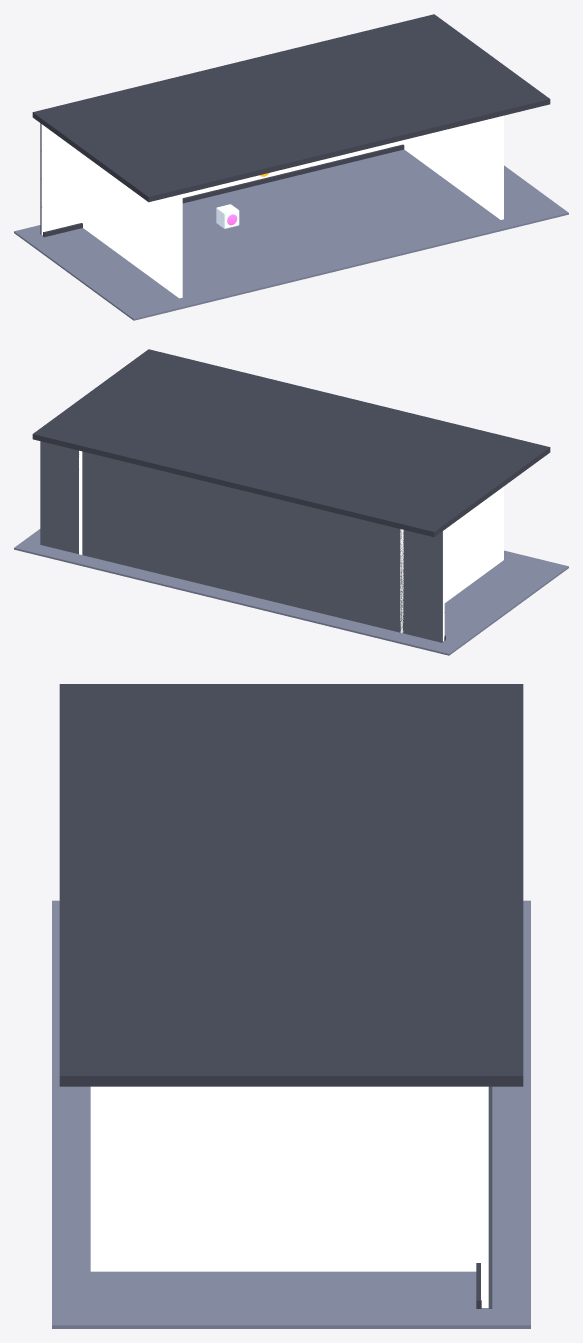
File: testkammer.glb
3 views of the same model, one above another, from view 1: azimuth 30°, elevation 25°; view 2: azimuth 150°, elevation 25°; view 3: azimuth 270°, elevation 25° (orthographic). The views are drawn at different scales.
Parts seen in each view (by area): view 1: Decke.001, Boden.003, Seitenwand-1.001, Seitenwand1.001, Sockel.006, Paneel-7_1.001, Paneel-7_2.001, Paneel-7_0.001, Paneel-7_3.001, Wuerfel.001; view 2: Decke.001, WandHinten.001, Boden.003, Seitenwand-1.001, Seitenwand1.001; view 3: Decke.001, Seitenwand1.001, Boden.003, WandHinten.001.
Part boxes in pixels (x1=…): Decke.001: x1=32, y1=14, x2=550, y2=202; Boden.003: x1=14, y1=149, x2=568, y2=320; Seitenwand-1.001: x1=81, y1=153, x2=182, y2=298; Seitenwand1.001: x1=403, y1=115, x2=503, y2=219; Sockel.006: x1=43, y1=144, x2=404, y2=237; Paneel-7_1.001: x1=41, y1=174, x2=69, y2=207; Paneel-7_2.001: x1=41, y1=146, x2=69, y2=179; Paneel-7_0.001: x1=41, y1=202, x2=69, y2=235; Paneel-7_3.001: x1=41, y1=124, x2=69, y2=151; Wuerfel.001: x1=216, y1=204, x2=239, y2=228; Decke.001: x1=32, y1=349, x2=550, y2=537; WandHinten.001: x1=40, y1=441, x2=442, y2=642; Boden.003: x1=14, y1=529, x2=568, y2=655; Seitenwand-1.001: x1=400, y1=486, x2=503, y2=633; Seitenwand1.001: x1=79, y1=450, x2=82, y2=554; Decke.001: x1=59, y1=684, x2=523, y2=1086; Seitenwand1.001: x1=90, y1=1086, x2=480, y2=1271; Boden.003: x1=52, y1=900, x2=530, y2=1328; WandHinten.001: x1=488, y1=1086, x2=492, y2=1308.
Size of the model in its own units: 26 by 6.75 by 12.4.
